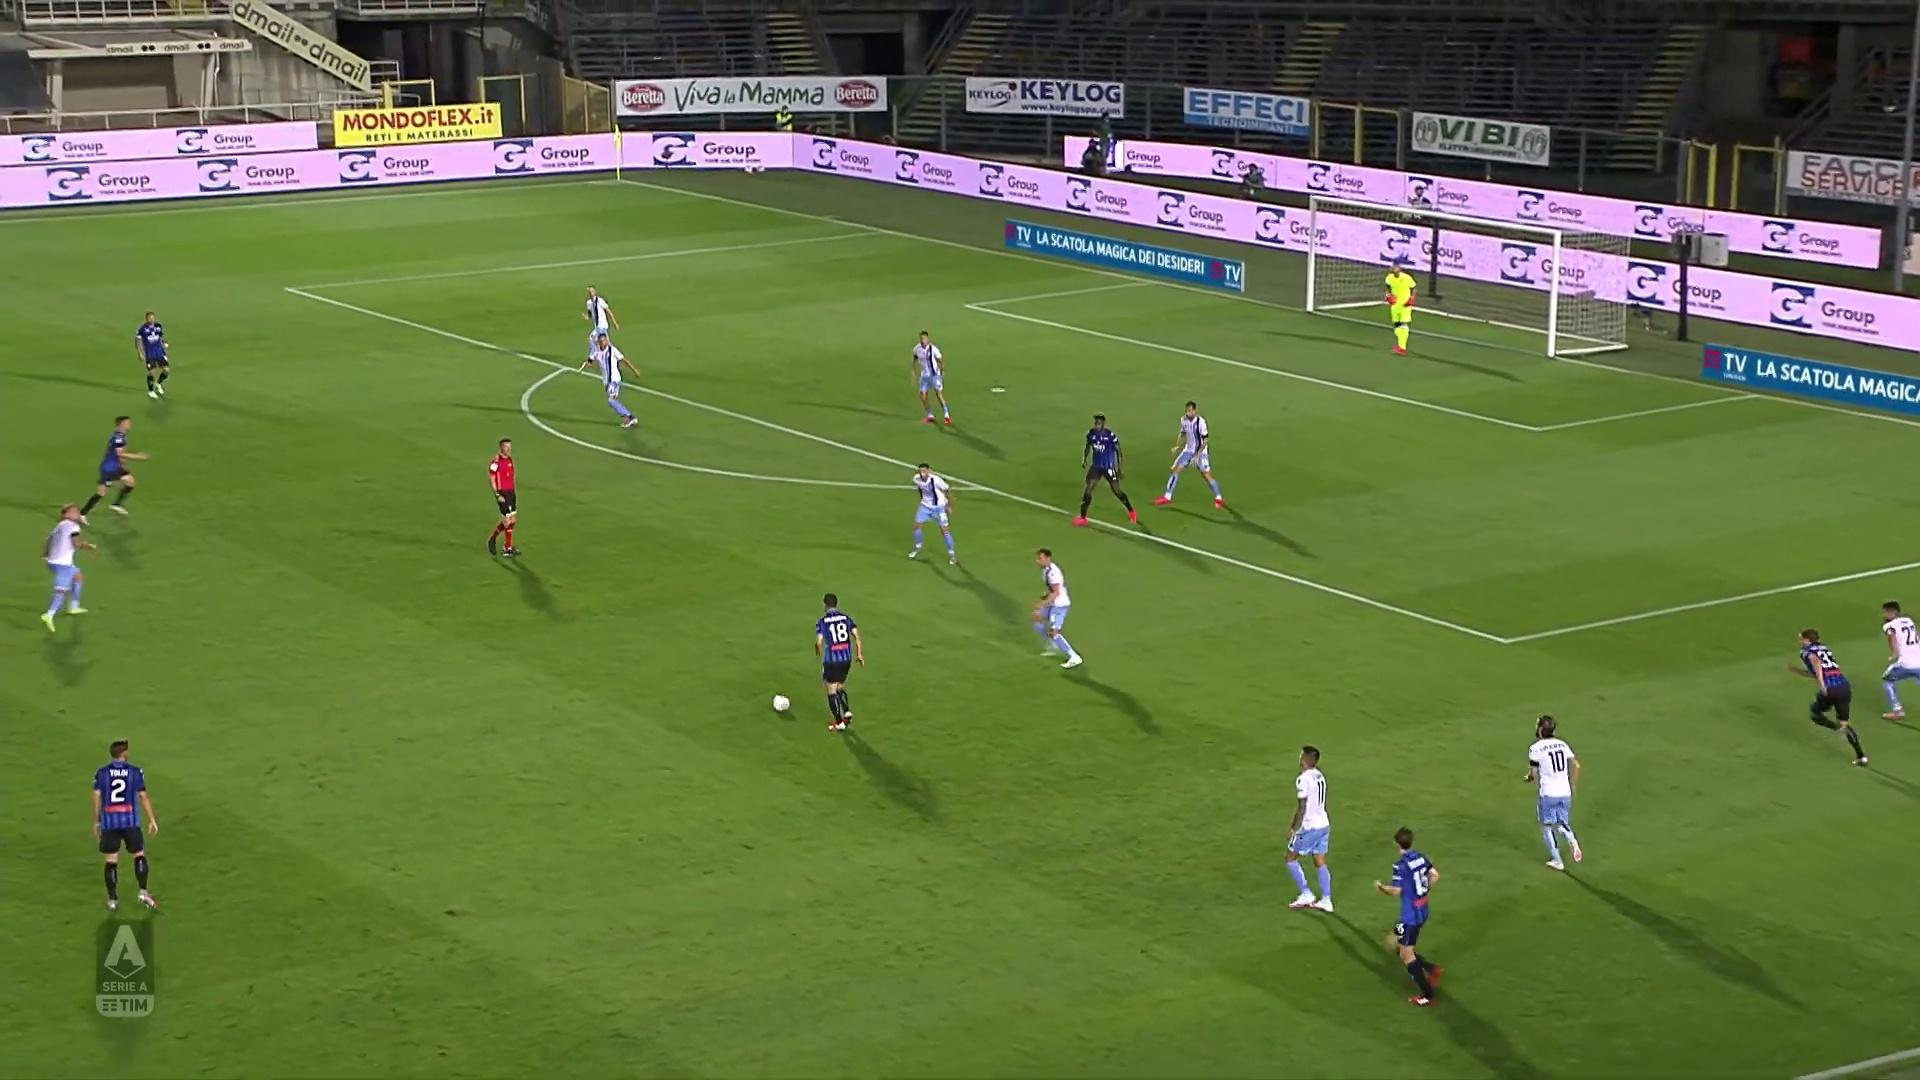ball: (771, 693, 792, 716)
goalkeeper: (1378, 259, 1425, 357)
player: (1373, 821, 1447, 1009), (89, 736, 161, 914), (1781, 625, 1870, 769), (1522, 712, 1586, 874), (1283, 739, 1341, 916), (70, 413, 151, 527), (1151, 405, 1232, 512), (1073, 410, 1147, 527), (36, 504, 100, 637), (813, 590, 867, 734), (1027, 547, 1087, 670), (1874, 597, 1920, 725), (903, 461, 959, 565), (593, 332, 644, 433), (907, 327, 954, 431), (583, 287, 630, 378), (133, 306, 175, 399)
referee: (478, 439, 520, 563)
